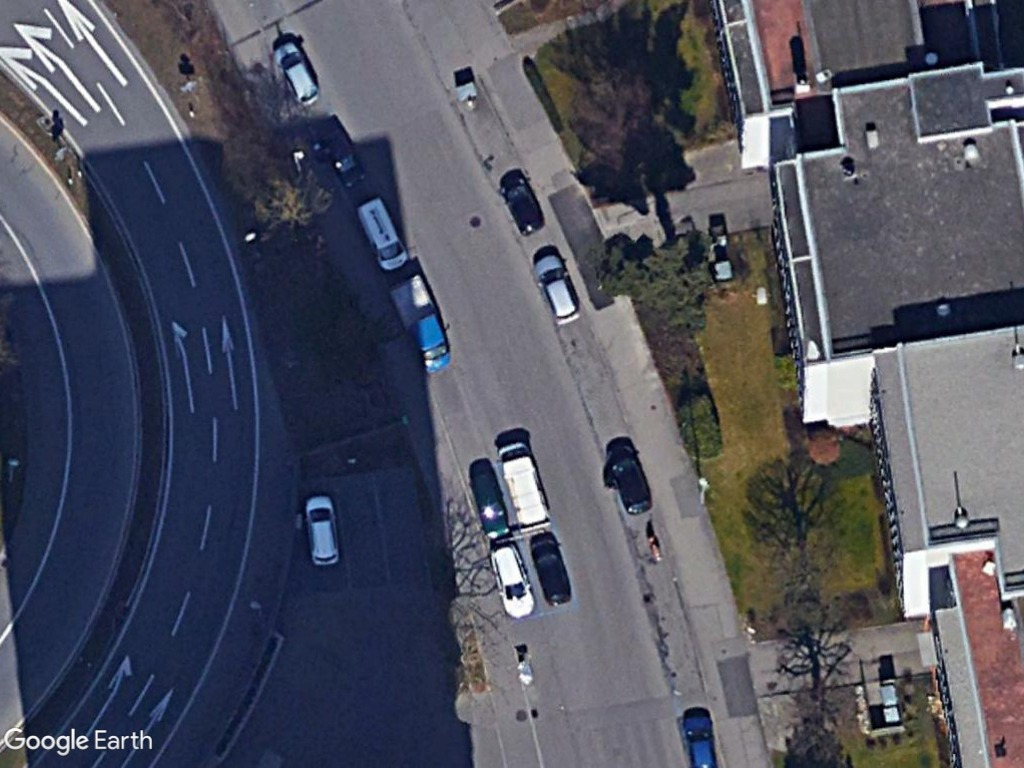car: (487, 541, 538, 618), (272, 37, 324, 109), (533, 251, 581, 327), (303, 491, 343, 568), (682, 708, 715, 768)
van: (494, 440, 553, 533), (353, 193, 410, 274)
